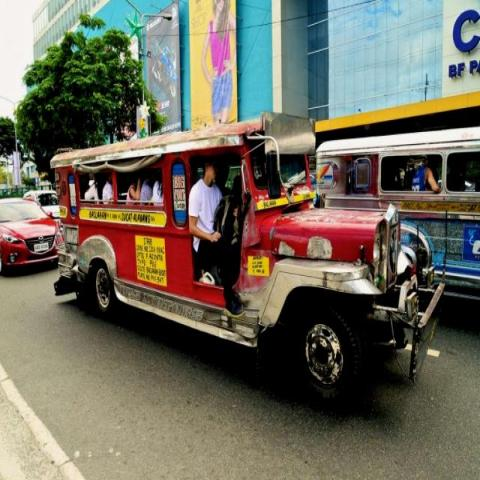jeepney: (41, 98, 453, 441), (318, 122, 480, 310)
